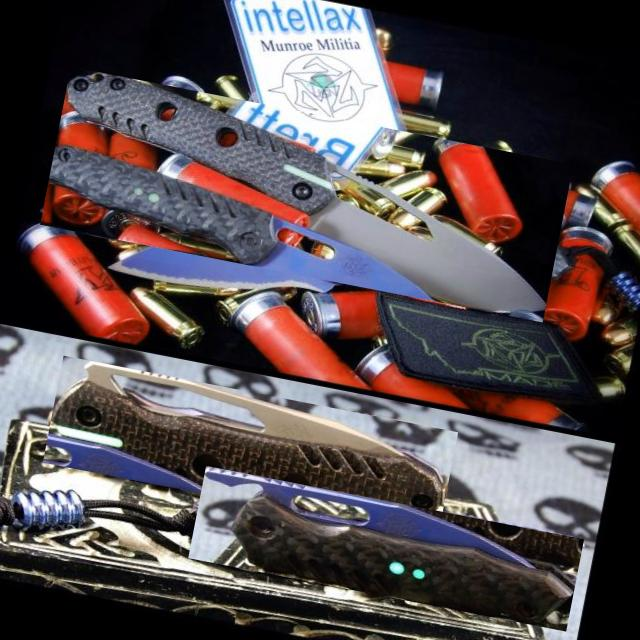Knife: (68, 74, 546, 314), (53, 364, 447, 524), (205, 468, 574, 624), (111, 227, 570, 293)
